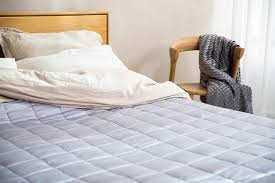bed-matress: (1, 69, 275, 183)
